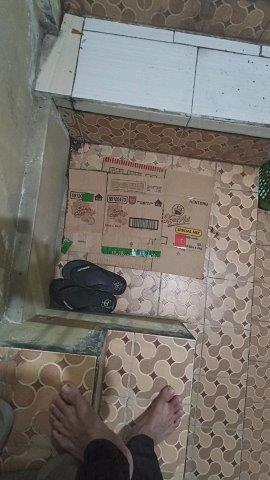kardus: (63, 158, 213, 278)
